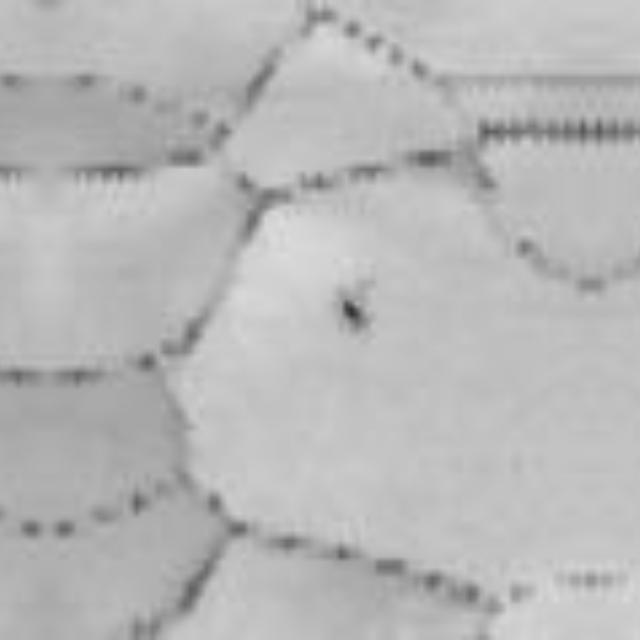good_void: (338, 298, 370, 334)
